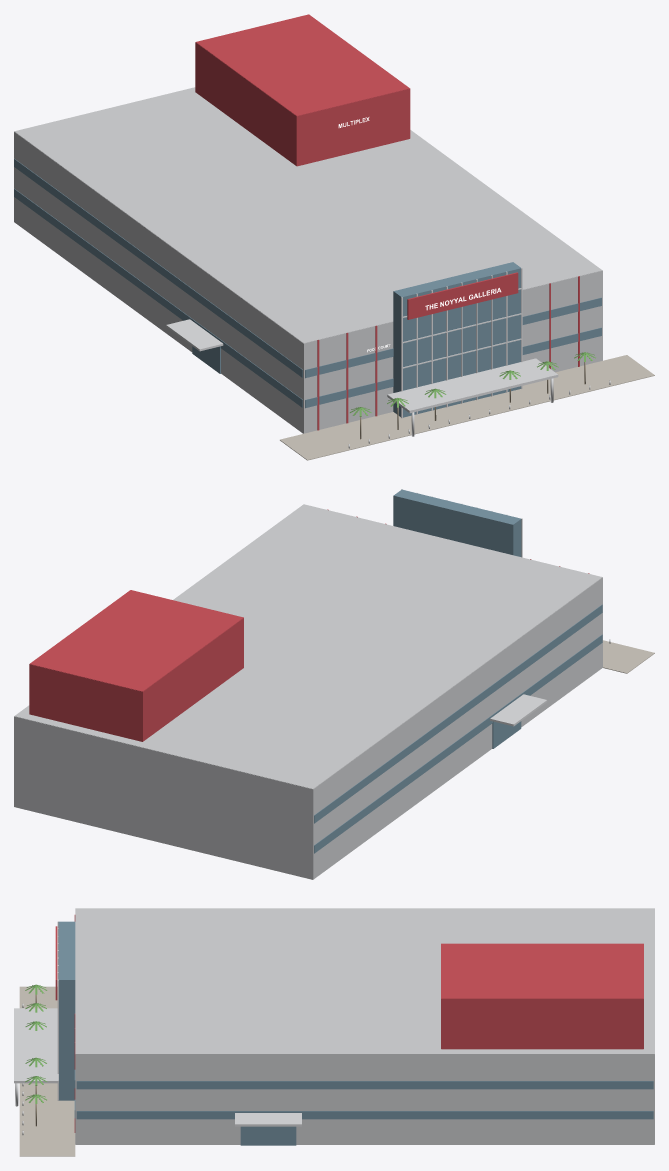
The model's file is mall_avinashi_ao.glb.
3 renders of one model, top to bottom at view 1: azimuth 30°, elevation 25°; view 2: azimuth 150°, elevation 25°; view 3: azimuth 270°, elevation 25°, orthographic.
Visible parts, largest first — view 1: mall_avinashi; view 2: mall_avinashi; view 3: mall_avinashi.
Part boxes in pixels (<box>): mall_avinashi: <box>14,14,654,460</box>; mall_avinashi: <box>14,489,654,879</box>; mall_avinashi: <box>14,908,654,1156</box>.
Size of the model in its own units: 72 by 28 by 115.
